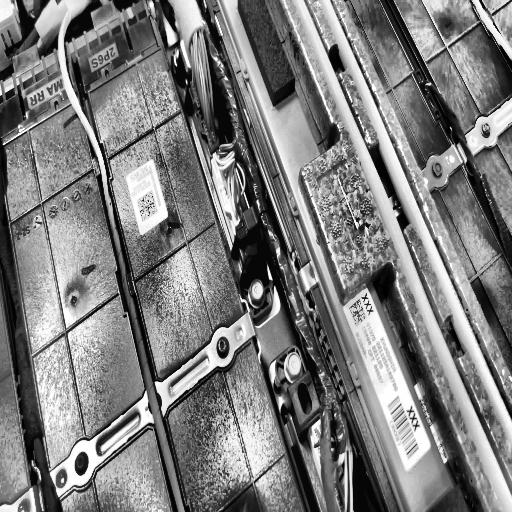high_volt_cable: (33, 0, 214, 512)
low_volt_cable: (198, 2, 356, 510)
nut: (246, 275, 266, 310), (282, 351, 304, 381), (70, 449, 92, 479), (431, 156, 446, 184), (480, 115, 494, 143), (216, 336, 231, 356)
